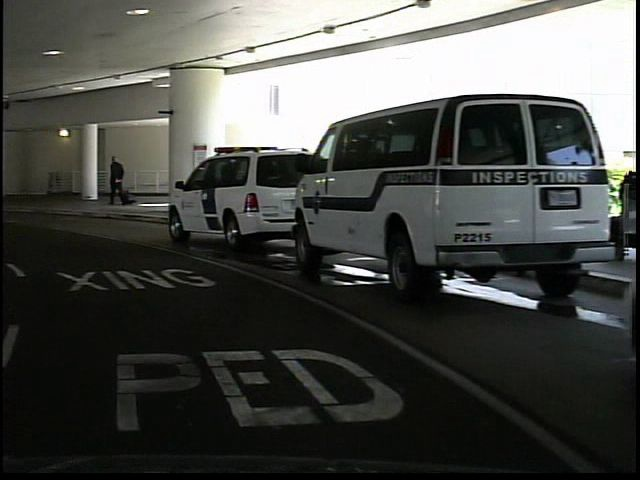person: (103, 151, 128, 210)
